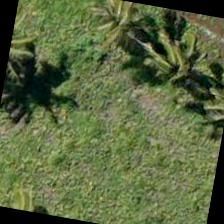Kelapa_Sawit: (132, 12, 223, 117), (69, 0, 169, 70)
